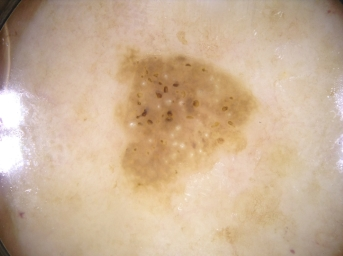seborrheic keratosis: (104, 40, 260, 198)
